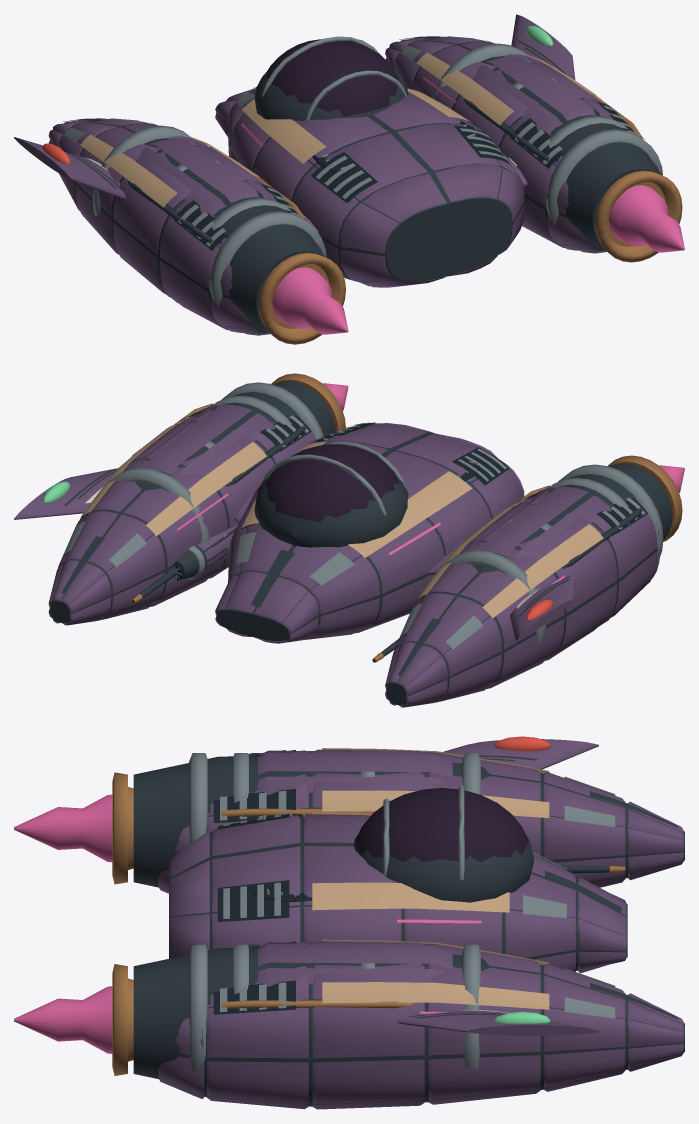
File: web_drone.glb
3 renders of one model, top to bottom at view 1: azimuth 30°, elevation 25°; view 2: azimuth 150°, elevation 25°; view 3: azimuth 270°, elevation 25°, orthographic. The views are drawn at different scales.
Parts seen in each view (by area): view 1: web_drone; view 2: web_drone; view 3: web_drone.
Boxes of the visible parts, x1,y1,x2,y2 form: web_drone: (14, 14, 684, 344); web_drone: (14, 373, 684, 707); web_drone: (14, 736, 684, 1109).
Bounding box in the file's own units: 7.32 × 2.44 × 7.26.
